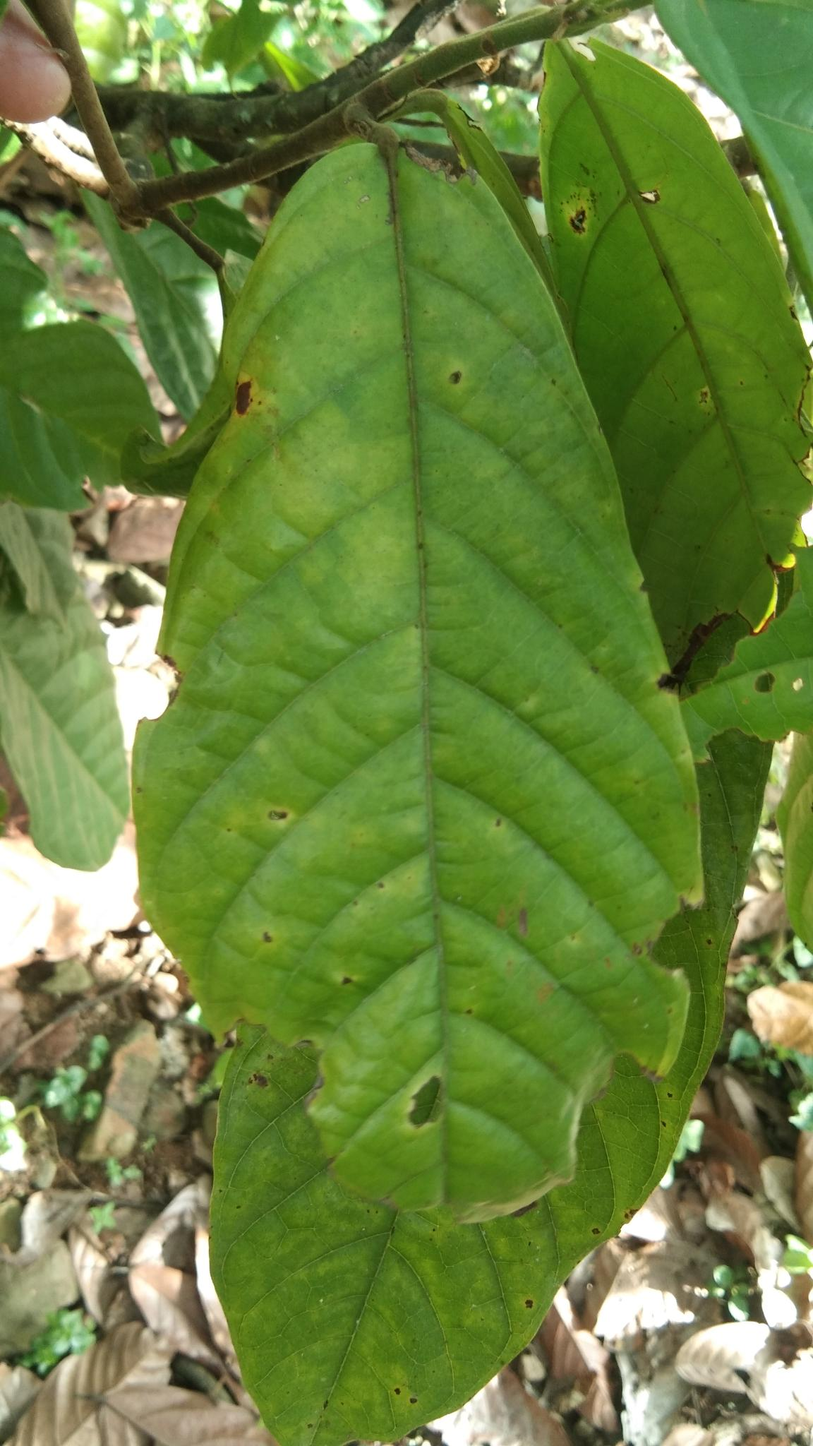Fosforo: (138, 123, 719, 1231)
